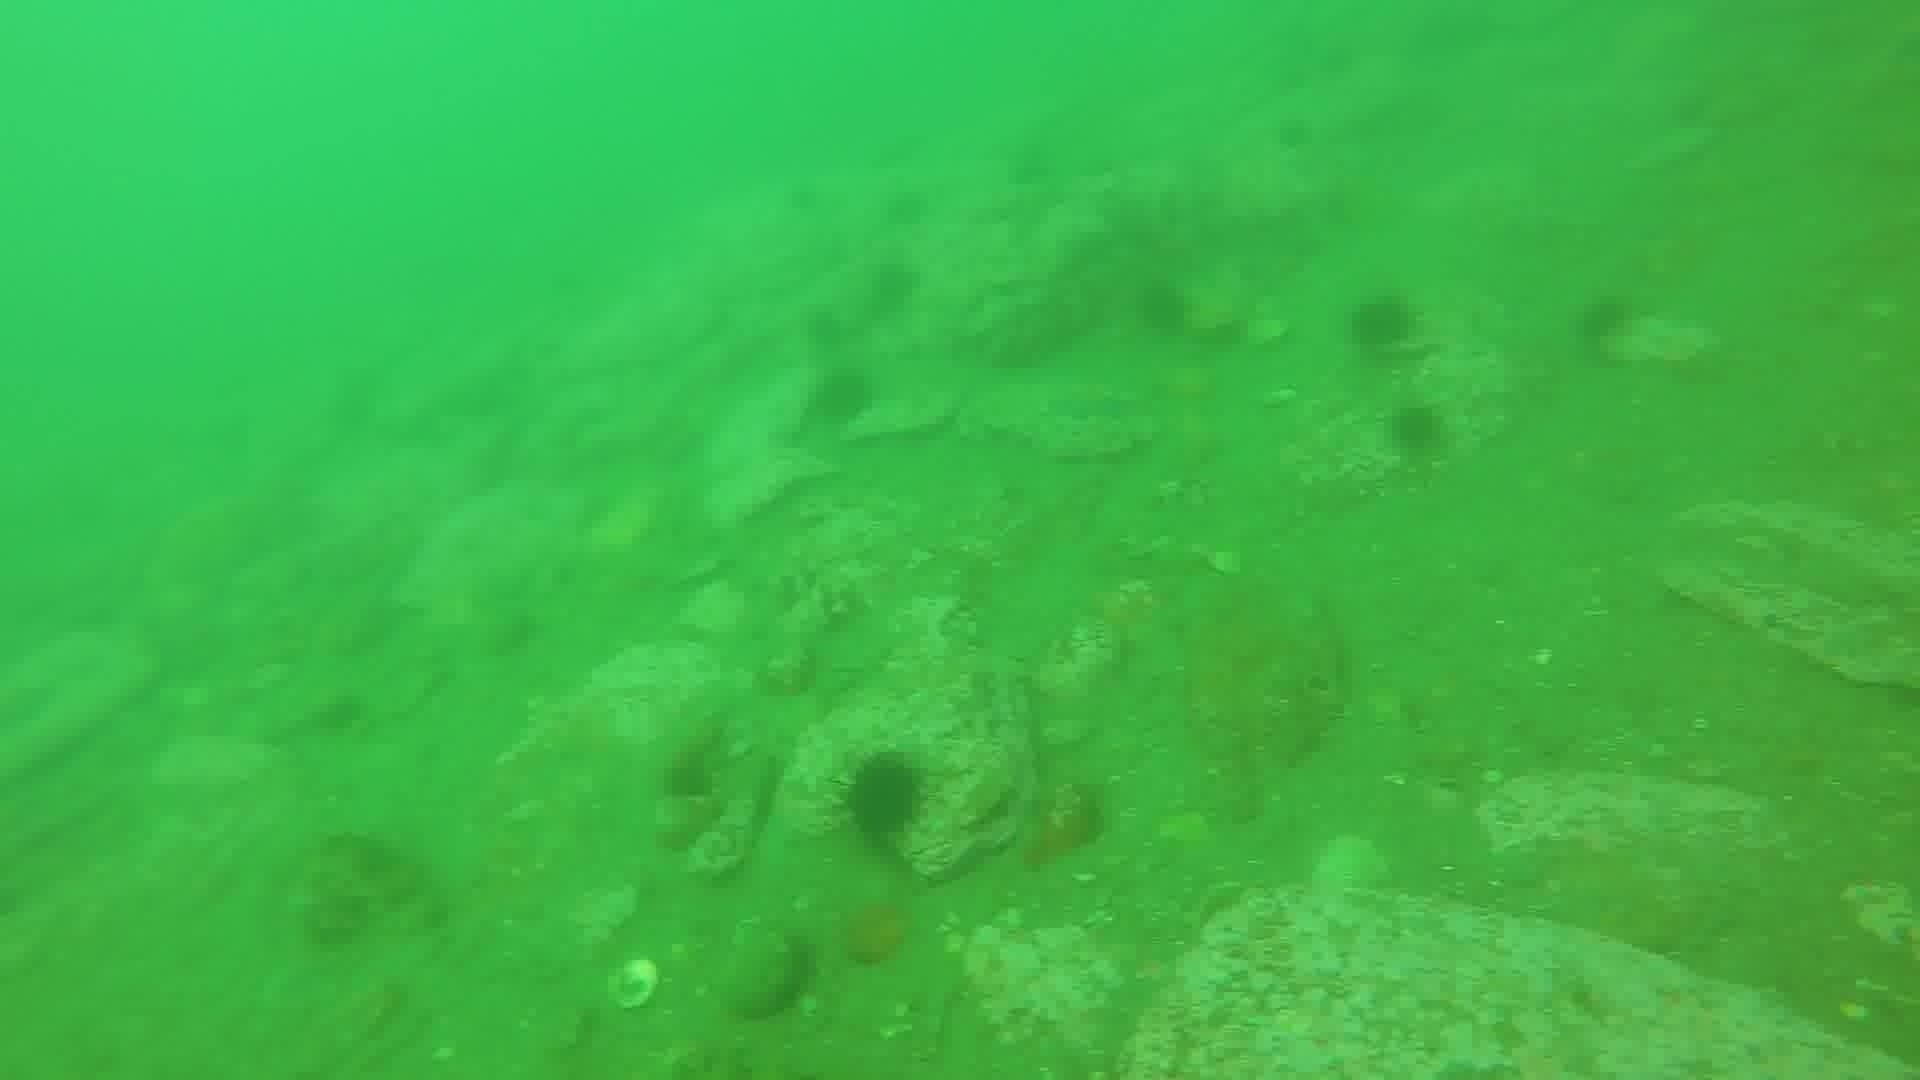echinus: (835, 752, 931, 847), (1342, 289, 1424, 357), (1379, 397, 1455, 465), (804, 363, 881, 430), (1129, 276, 1196, 342), (1571, 289, 1638, 351), (655, 746, 724, 807), (861, 255, 924, 318)
